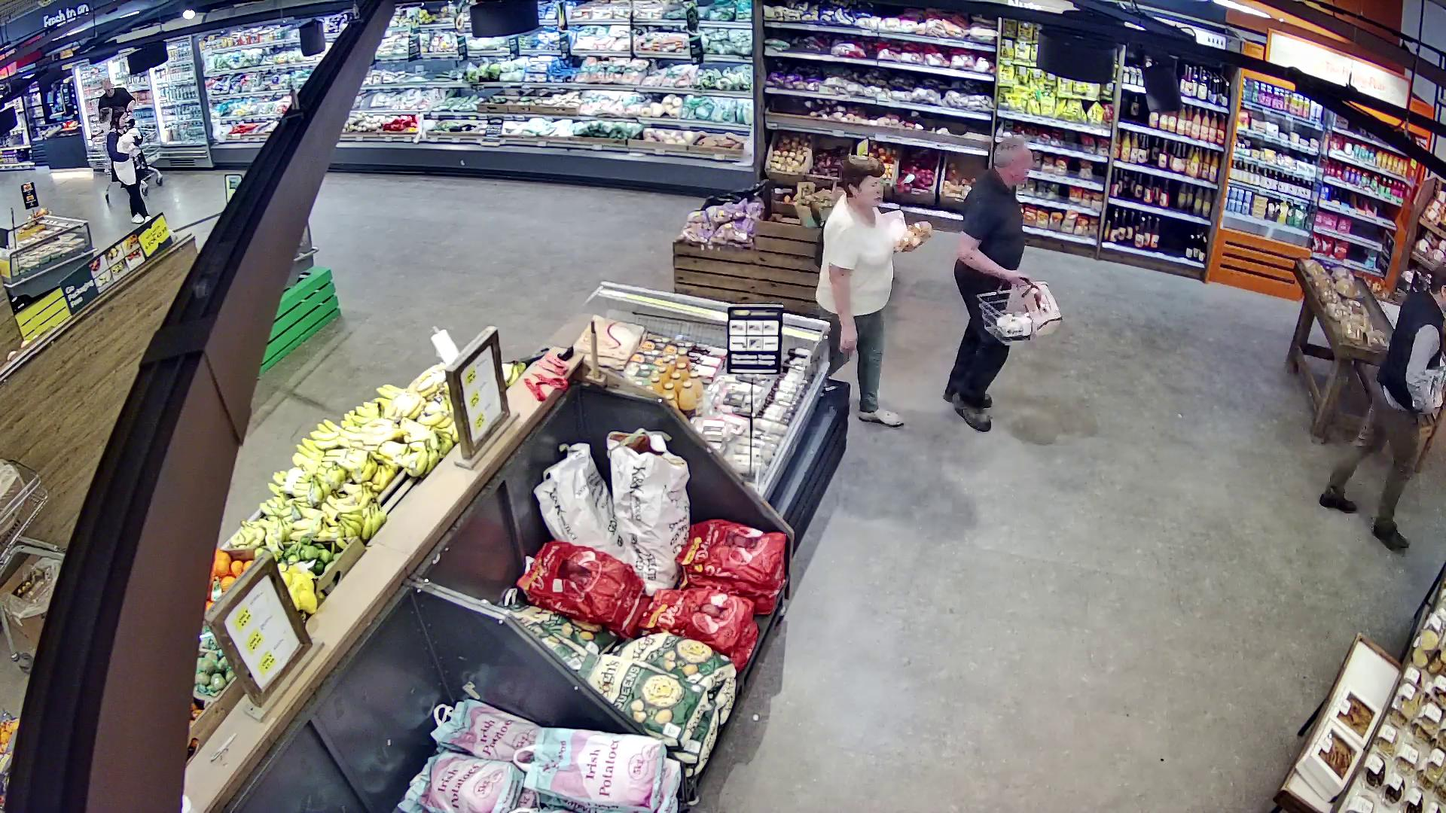carrying-item: (880, 203, 934, 251)
filled-basket: (978, 282, 1062, 349)
person: (946, 139, 1029, 432), (817, 157, 902, 427)
person-with-carrying-item: (817, 155, 933, 426)
person-with-filled-basket-trolly: (948, 136, 1063, 431)
